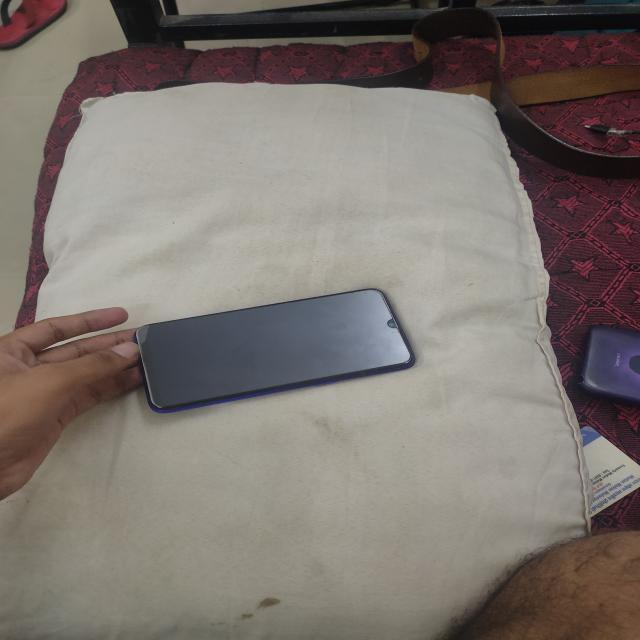Phone: (128, 284, 419, 418)
